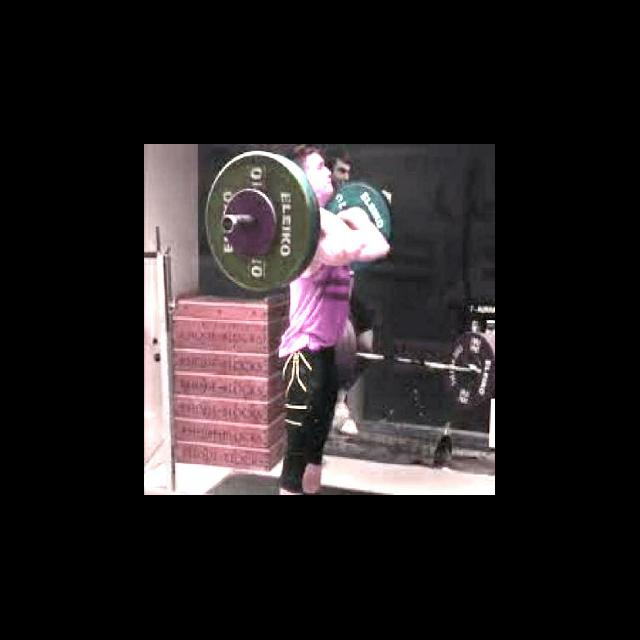barbell: (202, 148, 326, 298)
